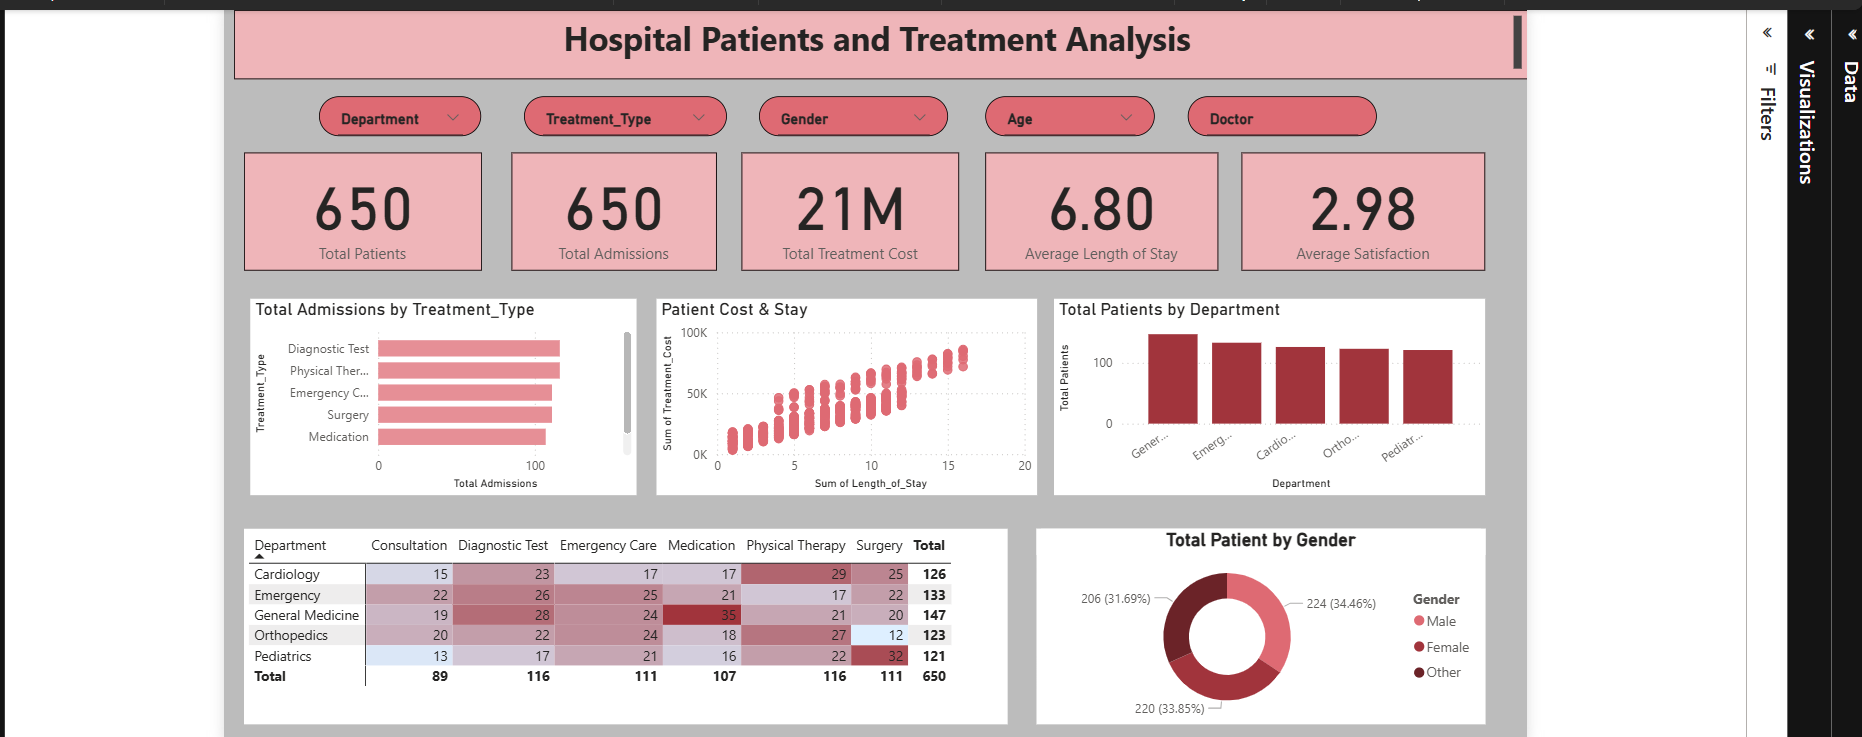

What the dashboard file says about the page in this screenshot:
{"tool":"powerbi","page":{"name":"Page 1","canvas":[1280,720],"ordinal":0},"visuals":[{"type":"textbox","box":[9.7,0,1270.3,68.1],"z":0},{"type":"slicer","fields":{"Values":["HospitalData.Department"]},"box":[93.4,84.6,159.5,38.9],"z":1000},{"type":"slicer","fields":{"Values":["HospitalData.Gender"]},"box":[525.2,84.6,185.8,38.9],"z":2000},{"type":"slicer","fields":{"Values":["HospitalData.Age"]},"box":[747,84.6,166.3,38.9],"z":3000},{"type":"slicer","fields":{"Values":["HospitalData.Treatment_Type"]},"box":[294.7,84.6,199.4,38.9],"z":4000},{"type":"card","fields":{"Values":["HospitalData.Total Patients"]},"box":[19.5,140.1,233.4,115.7],"z":5000},{"type":"card","fields":{"Values":["HospitalData.Average Length of Stay"]},"box":[747,140.1,228.6,115.7],"z":6000},{"type":"card","fields":{"Values":["HospitalData.Total Admissions"]},"box":[282.1,140.1,201.3,115.7],"z":7000},{"type":"card","fields":{"Values":["HospitalData.Average Satisfaction"]},"box":[998.9,140.1,239.3,115.7],"z":8000},{"type":"card","fields":{"Values":["HospitalData.Total Treatment Cost"]},"box":[507.7,140.1,214,115.7],"z":9000},{"type":"slicer","title":"Doctor","fields":{"Values":["HospitalData.Doctor"]},"box":[945.4,84.6,185.8,38.9],"z":10000},{"type":"donutChart","title":"Total Patient by Gender","fields":{"Category":["HospitalData.Gender"],"Y":["HospitalData.Total Patients"]},"box":[797.6,508.7,440.6,191.6],"z":11000},{"type":"barChart","fields":{"Category":["HospitalData.Treatment_Type"],"Y":["HospitalData.Total Admissions"]},"box":[25.3,284,379.3,192.6],"z":12000},{"type":"columnChart","fields":{"Y":["HospitalData.Total Patients"],"Category":["HospitalData.Department"]},"box":[815.1,284,423.1,192.6],"z":13000},{"type":"scatterChart","title":"Patient Cost & Stay","fields":{"X":["Sum(HospitalData.Length_of_Stay)"],"Y":["Sum(HospitalData.Treatment_Cost)"],"Category":["HospitalData.Patient_ID"]},"box":[424.1,284,373.5,192.6],"z":14000},{"type":"pivotTable","fields":{"Rows":["HospitalData.Department"],"Columns":["HospitalData.Treatment_Type"],"Values":["HospitalData.Total Patients"]},"box":[19.5,508.7,749.9,191.6],"z":15000}]}

Visuals, with their boxes in screenshot pixels (x1, y1, x2, y2):
textbox: [543, 5, 1826, 74]
slicer - HospitalData.Department: [628, 90, 789, 130]
slicer - HospitalData.Gender: [1064, 90, 1251, 130]
slicer - HospitalData.Age: [1288, 90, 1455, 130]
slicer - HospitalData.Treatment_Type: [831, 90, 1032, 130]
card - HospitalData.Total Patients: [553, 146, 789, 263]
card - HospitalData.Average Length of Stay: [1288, 146, 1518, 263]
card - HospitalData.Total Admissions: [818, 146, 1021, 263]
card - HospitalData.Average Satisfaction: [1542, 146, 1783, 263]
card - HospitalData.Total Treatment Cost: [1046, 146, 1262, 263]
"Doctor" slicer: [1488, 90, 1675, 130]
"Total Patient by Gender" donutChart: [1339, 518, 1783, 712]
barChart - HospitalData.Treatment_Type x HospitalData.Total Admissions: [559, 292, 942, 486]
columnChart - HospitalData.Total Patients x HospitalData.Department: [1356, 292, 1783, 486]
"Patient Cost & Stay" scatterChart: [962, 292, 1339, 486]
pivotTable - HospitalData.Department x HospitalData.Treatment_Type: [553, 518, 1310, 712]
